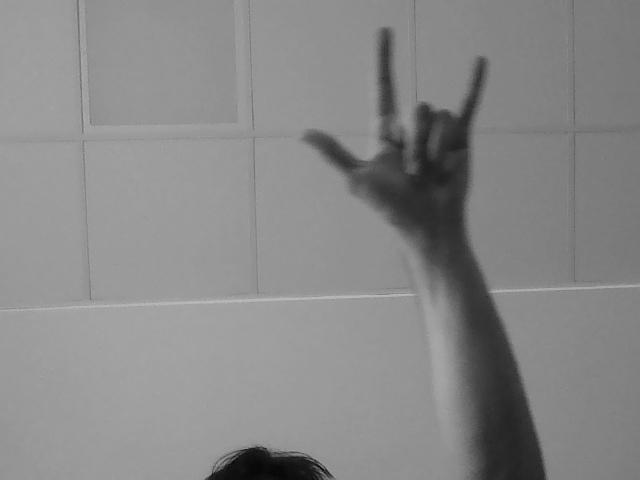I_Love_You: (298, 12, 548, 286)
